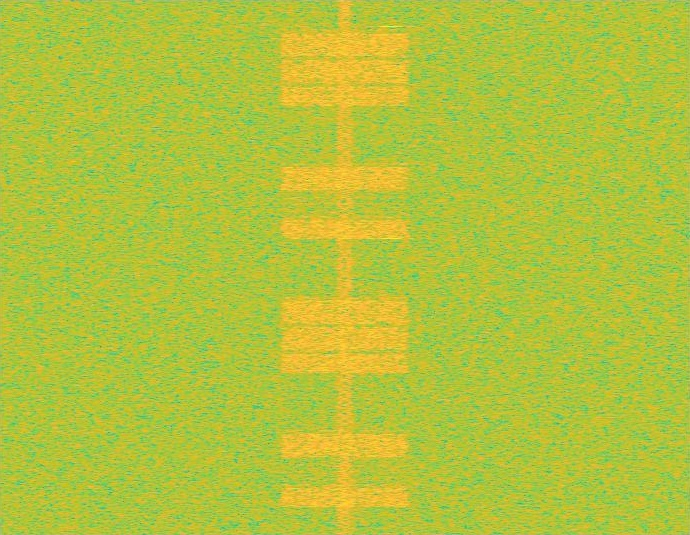DSSS: (336, 0, 354, 534)
LTE: (276, 0, 414, 534)
Radar: (384, 0, 398, 534)
